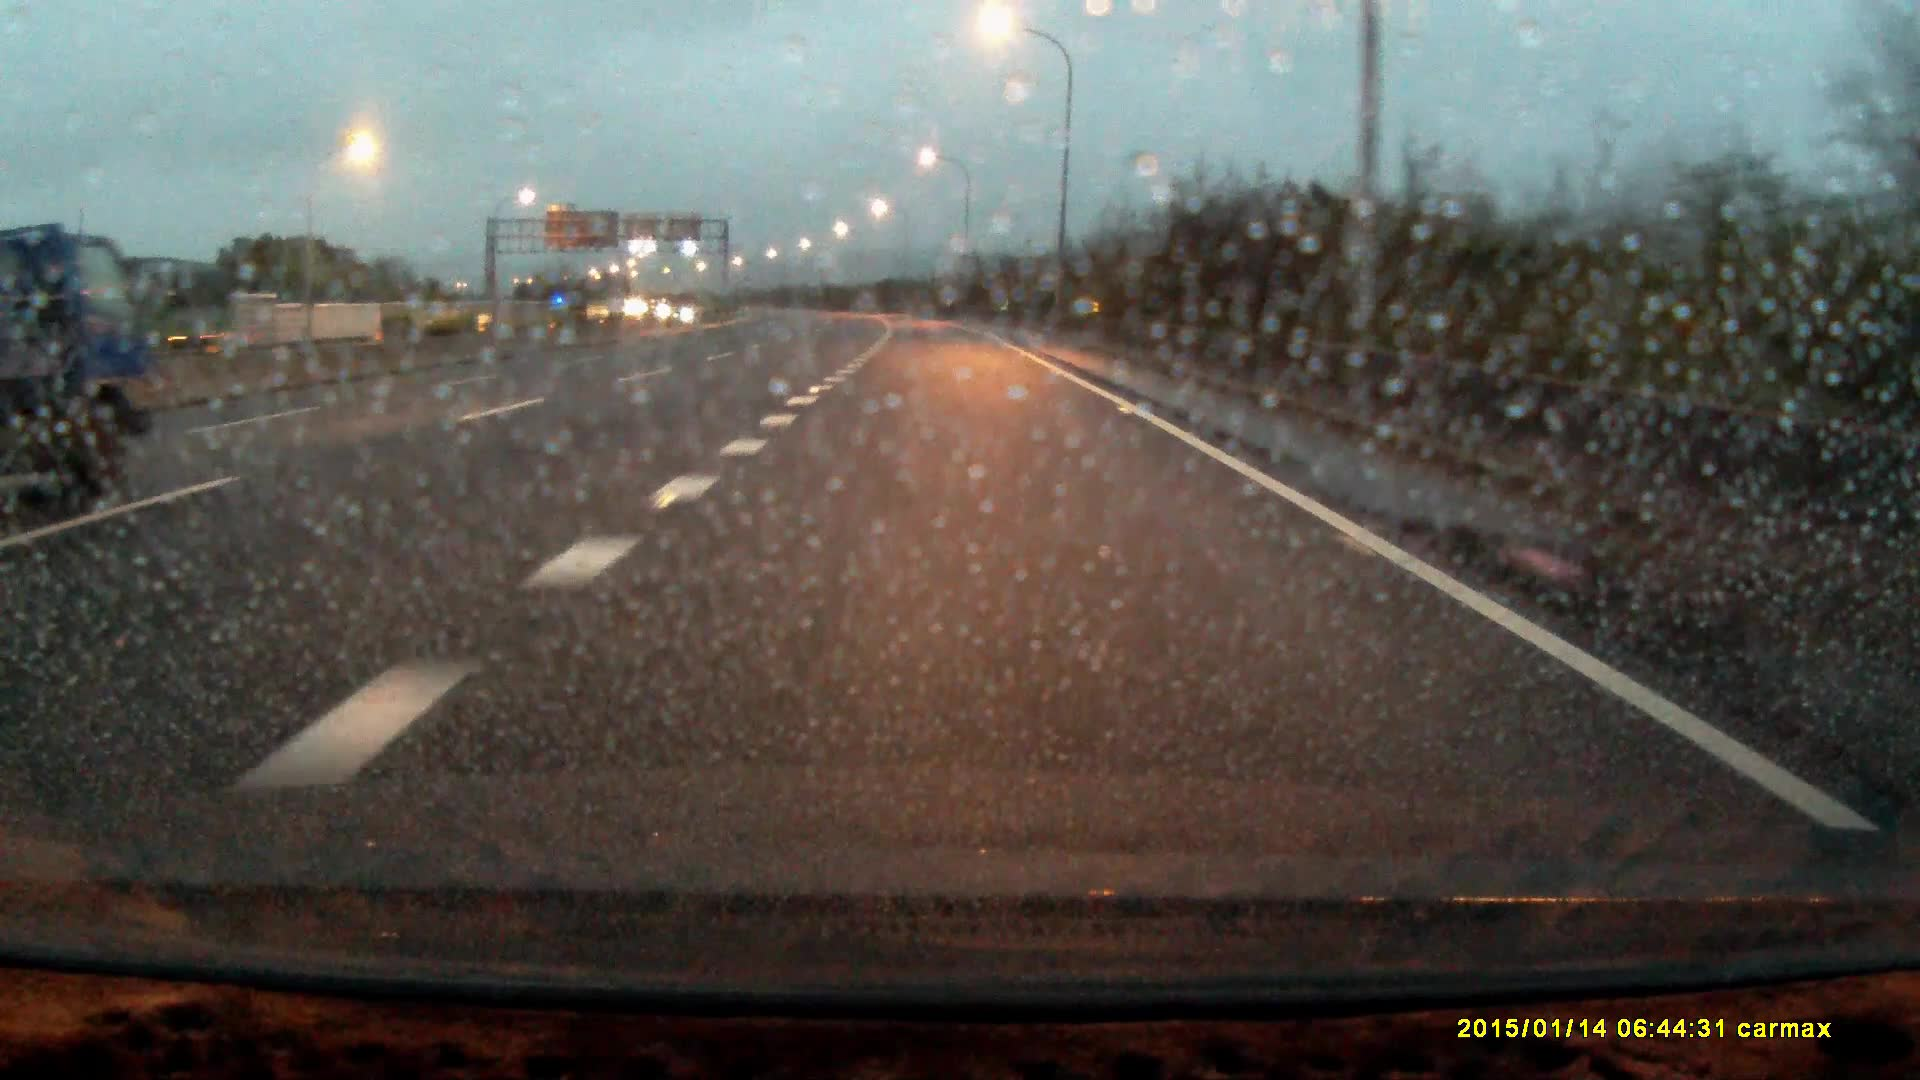vehicle: (1, 218, 178, 525)
